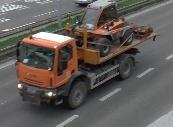truck: (15, 1, 158, 110)
